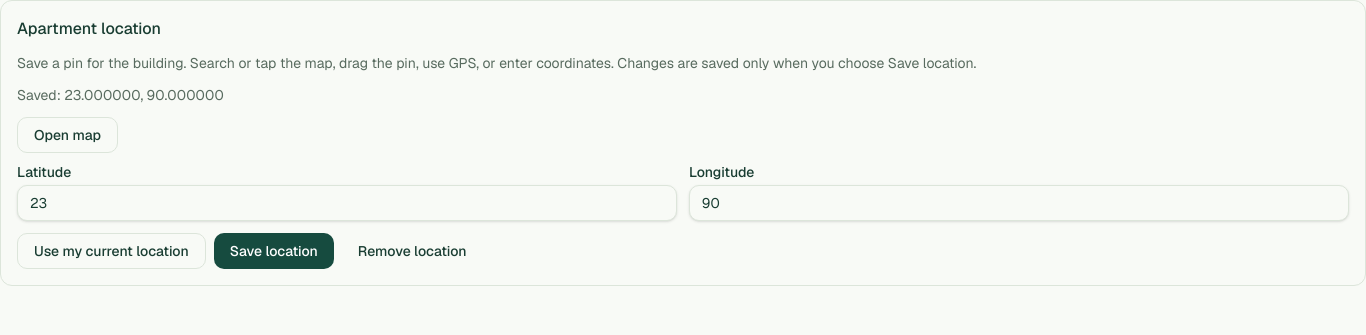
Test: apartment location › retains the previous location when the server rejects a save
This screenshot has width=1366, height=335.
Replace the text in the number field labelled "Latitude" with "24" at (347, 203), box [17, 185, 677, 221]
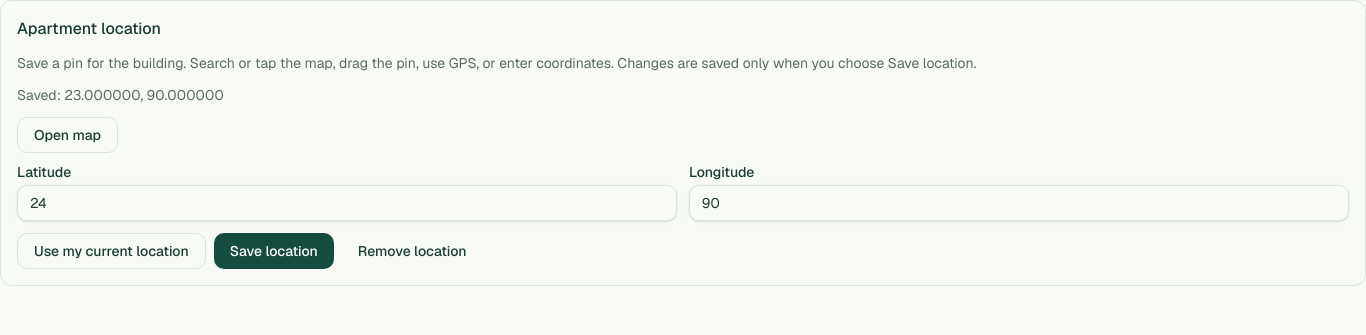
Click the button "Save location" at (274, 251), box [214, 233, 334, 269]
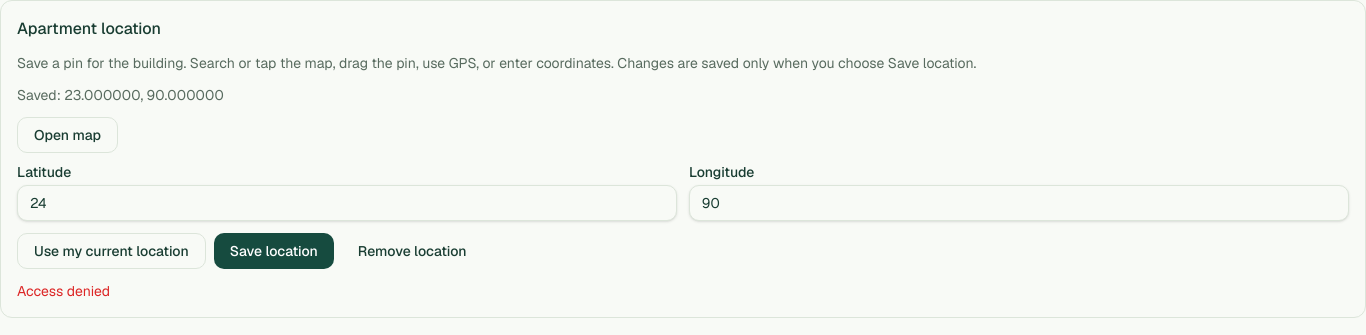
Expected: the text "Saved: 23.000000, 90.000000" is shown, [17, 86, 224, 104]
Now the message reads "Access denied", box [17, 282, 110, 300]
